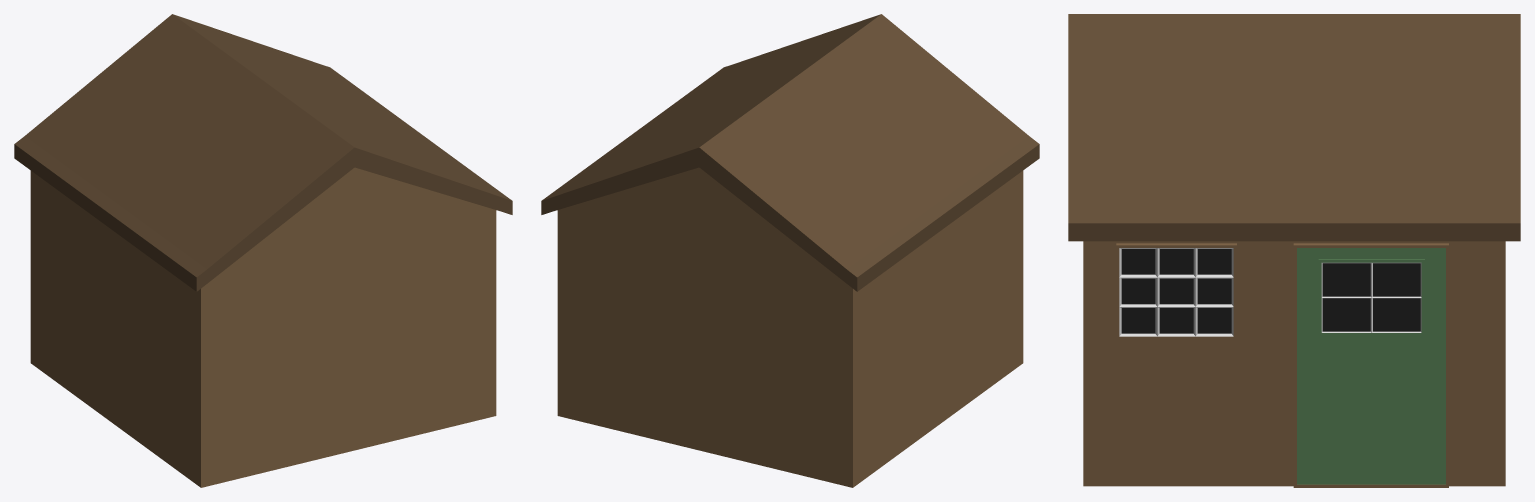
File: Casita.fbx
The picture shows the model from 3 angles, left to right: view 1: azimuth 30°, elevation 25°; view 2: azimuth 150°, elevation 25°; view 3: azimuth 270°, elevation 25°; orthographic projection. The views are drawn at different scales.
Parts seen in each view (by area): view 1: Cube; view 2: Cube; view 3: Cube, Cube.004, Cube.003, Cube.005.
Part boxes in pixels (box(x1,y1,x2,y2)): Cube: box(14, 14, 512, 487); Cube: box(541, 14, 1039, 487); Cube: box(1068, 14, 1520, 487); Cube.004: box(1297, 248, 1445, 484); Cube.003: box(1119, 248, 1233, 336); Cube.005: box(1321, 262, 1421, 332).
Bounding box in the file's own units: 1070 × 1000 × 1070.
